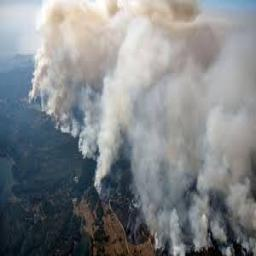Heavy smoke: (27, 0, 256, 256)
